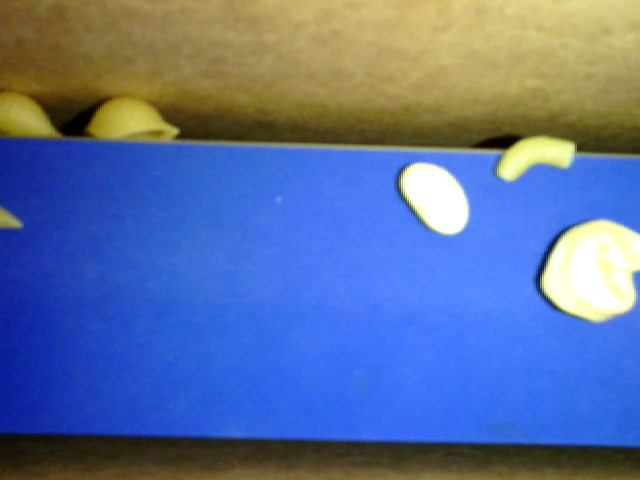elbow: (493, 132, 576, 182)
shell: (85, 96, 182, 139), (1, 86, 67, 142)
tortellini: (538, 218, 639, 326)
